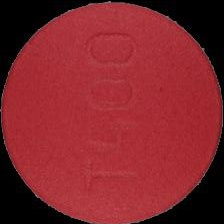63629-4994: (0, 0, 224, 224)
